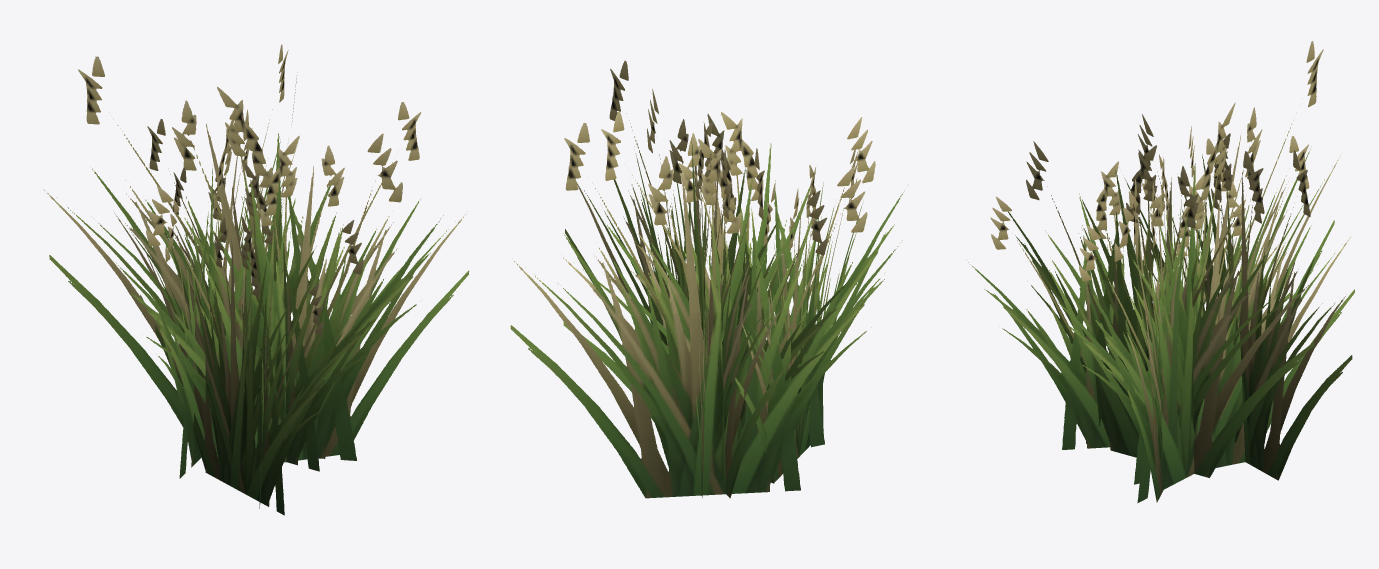
The model's file is grass_b.glb.
3 views of the same model, side by side, from view 1: azimuth 30°, elevation 25°; view 2: azimuth 150°, elevation 25°; view 3: azimuth 270°, elevation 25° (orthographic). The views are drawn at different scales.
Visible parts, largest first — view 1: grass_b_mesh; view 2: grass_b_mesh; view 3: grass_b_mesh.
Part boxes in pixels (x1,y1,x2,y2): grass_b_mesh: [43, 44, 469, 515]; grass_b_mesh: [510, 60, 907, 498]; grass_b_mesh: [968, 41, 1354, 503].
Size of the model in its own units: 0.7025 by 0.7581 by 0.75.
1 material, 1 textured.
